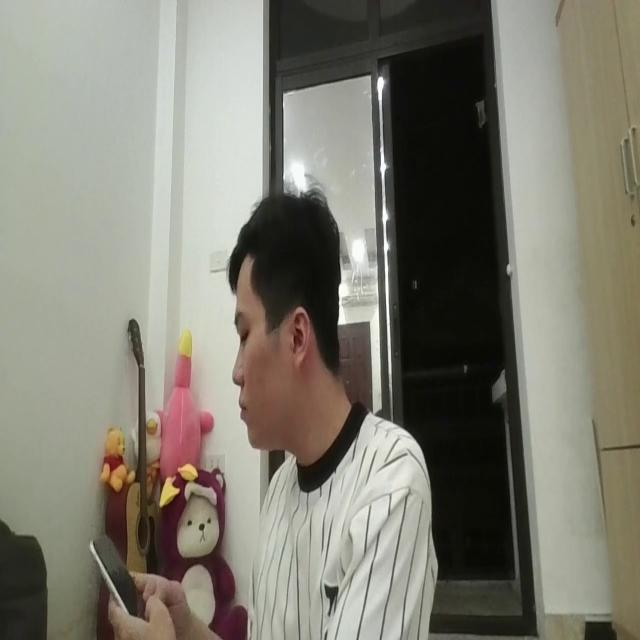phone: (88, 522, 152, 624)
student: (218, 175, 438, 640)
